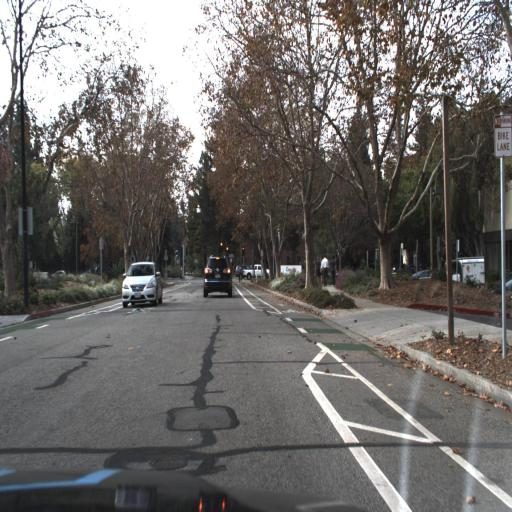car: (119, 257, 163, 311), (201, 253, 234, 298)
truck: (447, 256, 487, 288)
